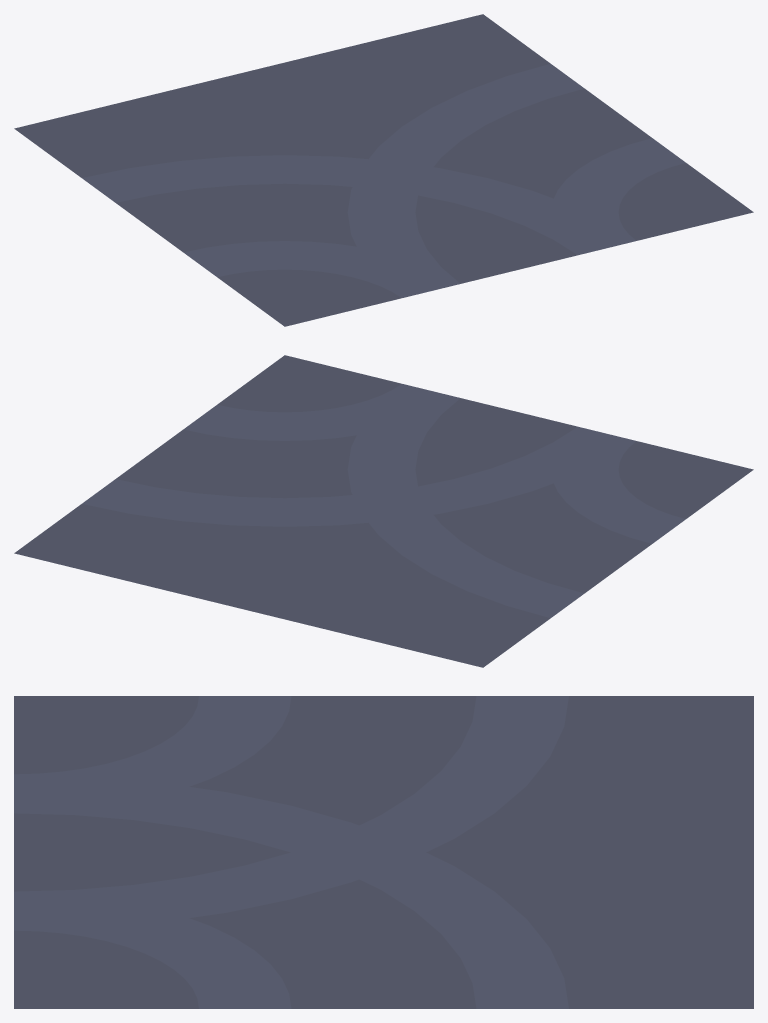
Rendered from terrain_roadSplit.glb.
The picture shows the model from 3 angles, top to bottom: view 1: azimuth 30°, elevation 25°; view 2: azimuth 150°, elevation 25°; view 3: azimuth 270°, elevation 25°; orthographic projection. The views are drawn at different scales.
Parts seen in each view (by area): view 1: terrain_roadSplit; view 2: terrain_roadSplit; view 3: terrain_roadSplit.
Part boxes in pixels (<box>): terrain_roadSplit: <box>14,14,753,326</box>; terrain_roadSplit: <box>14,355,753,667</box>; terrain_roadSplit: <box>14,696,753,1008</box>.
Size of the model in its own units: 1 by 4.8e-17 by 1.
